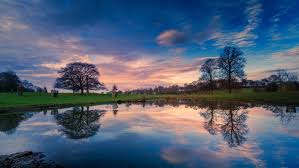lake: (2, 105, 299, 167)
sky: (2, 1, 298, 86)
tree: (194, 47, 255, 91), (49, 62, 112, 98)
